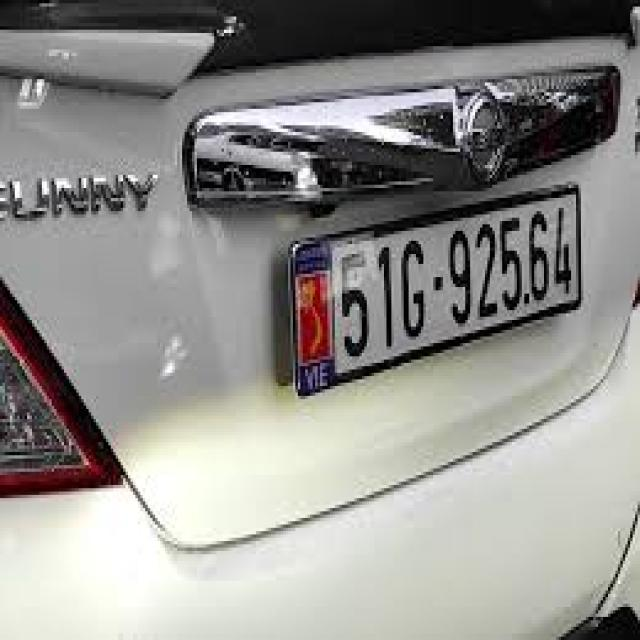bien_so: (288, 168, 596, 413)
